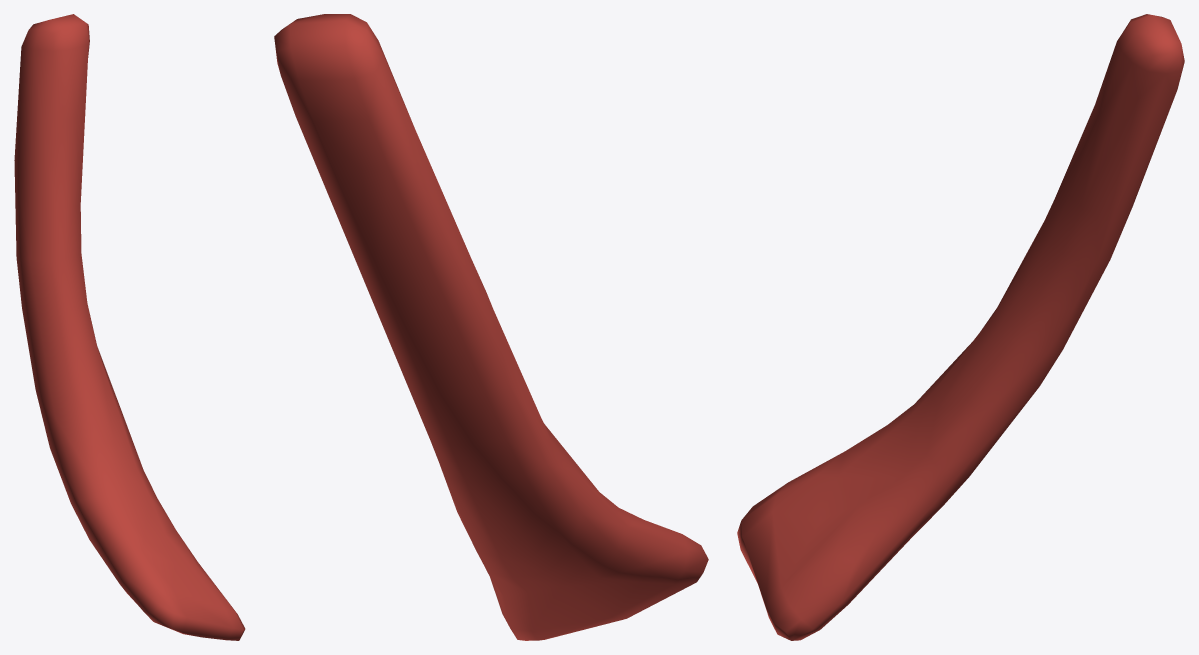
Rendered from musculos-tendon-sheath-of-extensor-digitorum-longus-l.glb.
3 renders of one model, left to right at view 1: azimuth 30°, elevation 25°; view 2: azimuth 150°, elevation 25°; view 3: azimuth 270°, elevation 25°, orthographic. The views are drawn at different scales.
Parts seen in each view (by area): view 1: Tendon sheath of extensor digitorum longus.l; view 2: Tendon sheath of extensor digitorum longus.l; view 3: Tendon sheath of extensor digitorum longus.l.
Part boxes in pixels (x1,y1,x2,y2): Tendon sheath of extensor digitorum longus.l: (14, 14, 245, 640); Tendon sheath of extensor digitorum longus.l: (274, 14, 708, 640); Tendon sheath of extensor digitorum longus.l: (737, 14, 1184, 640).
Size of the model in its own units: 0.0164 by 0.069 by 0.0462.
